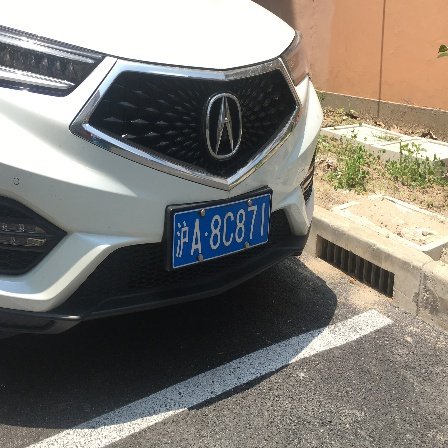plate: (171, 199, 277, 261)
